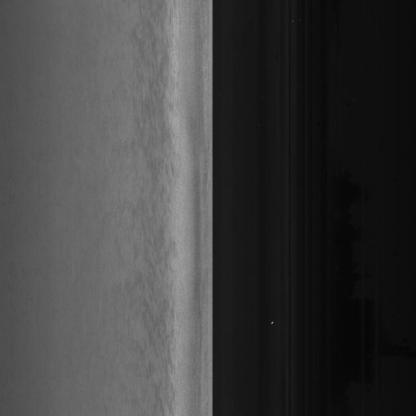silk_spot: (140, 138, 171, 279)
